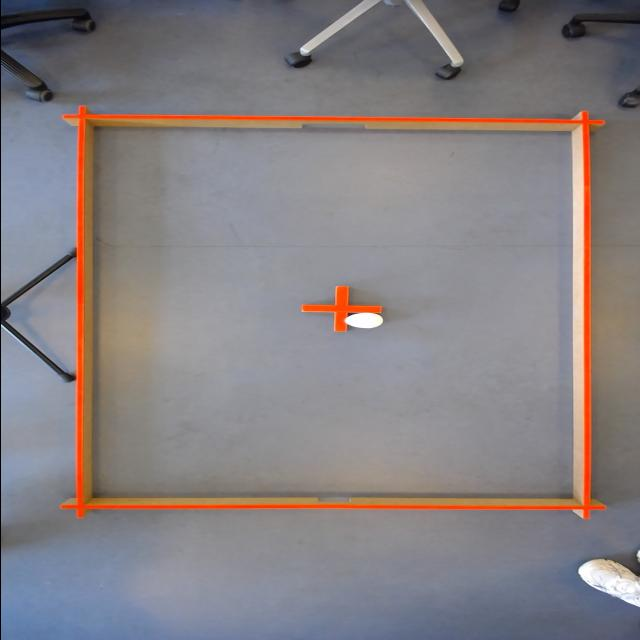cross: (300, 283, 385, 333)
egg: (342, 312, 382, 330)
